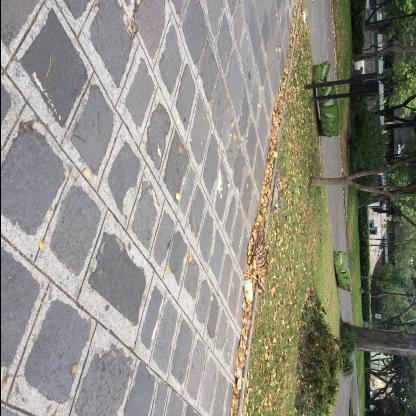karton: (245, 280, 254, 306)
